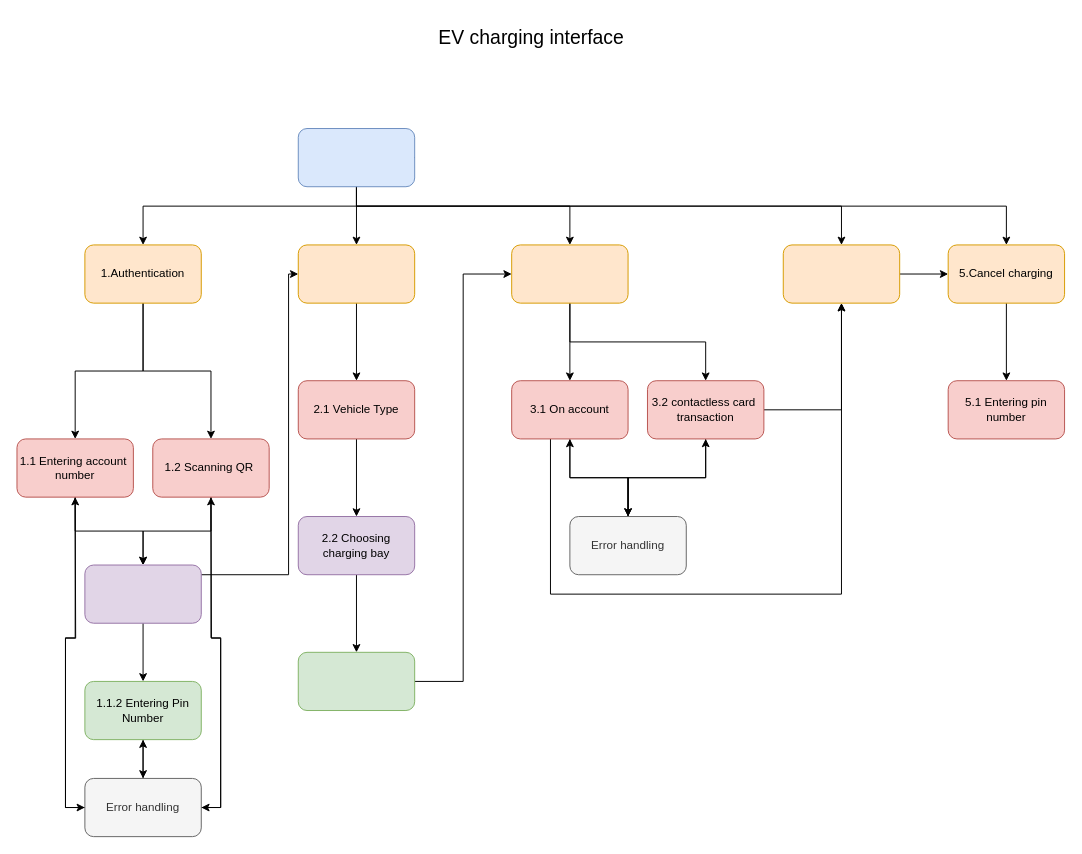
Image size: 1082x854. Some labels were removed from this diagram. The shapes that lost their labels are listed below. From the top down, each one's centre as x and y in pixels, then its label:
[356,157]: 0.Attractor
[356,273]: 2.Charging details
[569,273]: 3.Payment
[841,273]: 4.Start charging
[142,593]: 1.1.1 Verify user identity
[356,681]: 2.3 choosing charging duration
